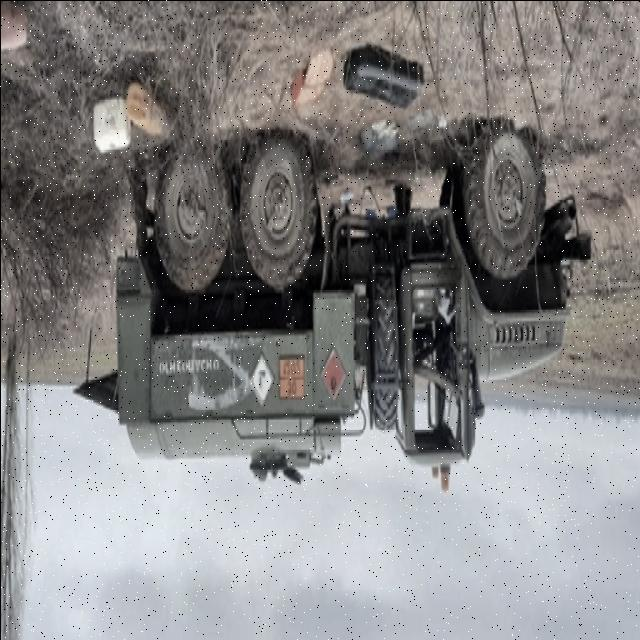TRUCK: (70, 120, 590, 500)
